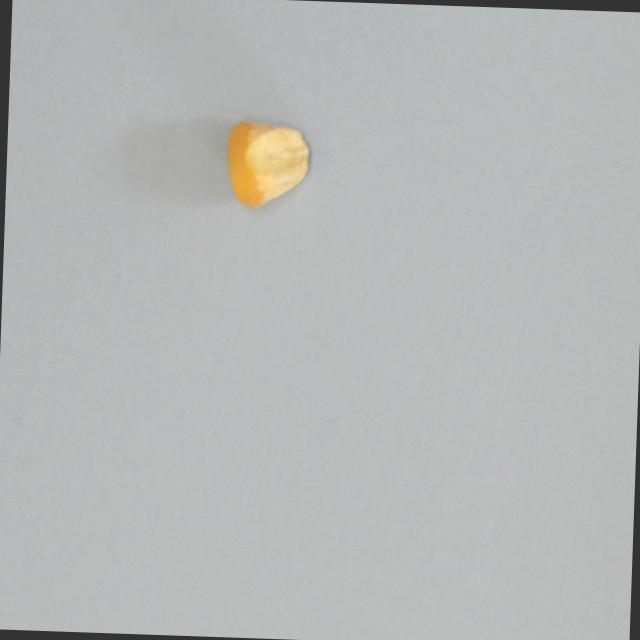entero: (217, 112, 316, 210)
